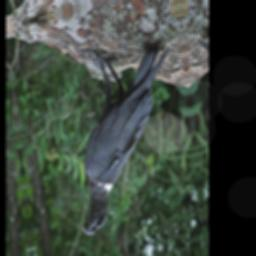Crow: (60, 27, 187, 241)
